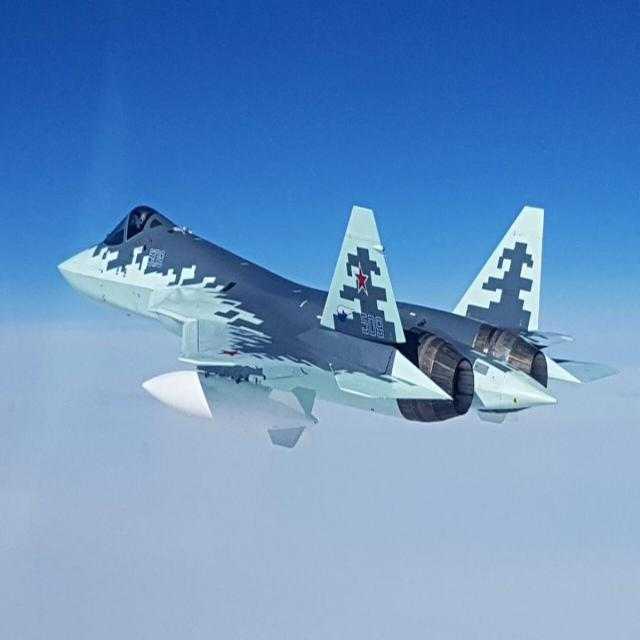MIL_Plane: (56, 205, 620, 449)
